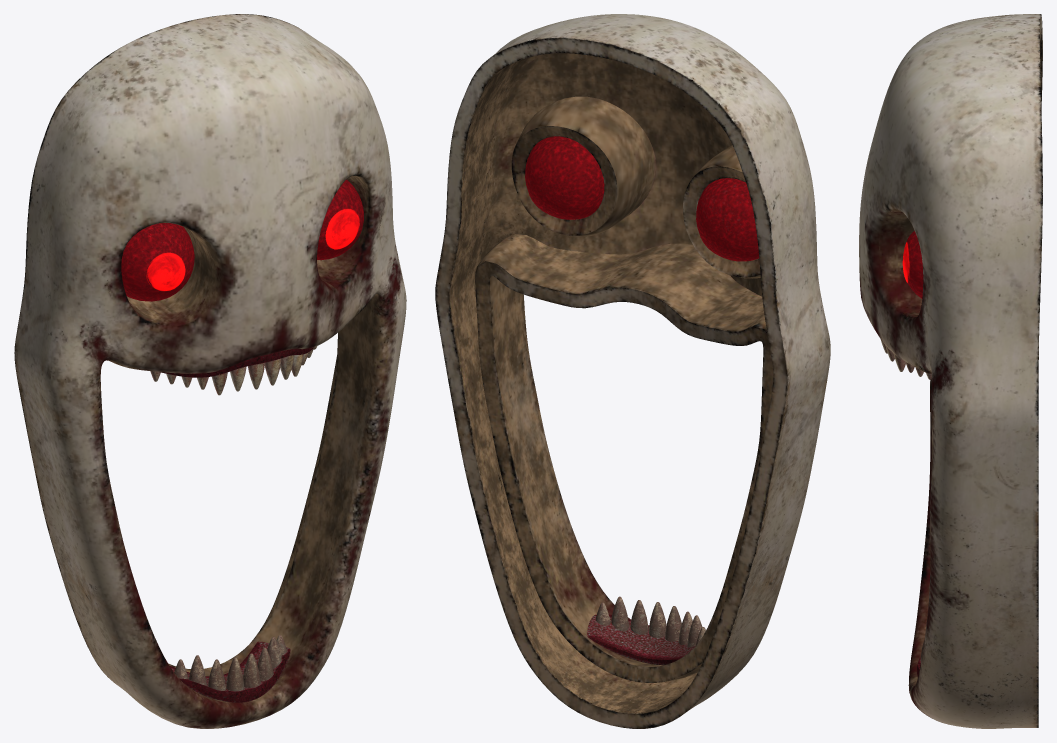
Rendered from Rigged_Mask.fbx.
3 renders of one model, left to right at view 1: azimuth 30°, elevation 25°; view 2: azimuth 150°, elevation 25°; view 3: azimuth 270°, elevation 25°, orthographic.
Parts seen in each view (by area): view 1: Mask, Eye_R, Eye_L; view 2: Mask, Eye_L, Eye_R; view 3: Mask, Eye_L.
Part boxes in pixels (x1=…): Mask: x1=14, y1=14, x2=406, y2=728; Eye_R: x1=121, y1=223, x2=194, y2=301; Eye_L: x1=317, y1=179, x2=363, y2=260; Mask: x1=435, y1=14, x2=830, y2=728; Eye_L: x1=525, y1=136, x2=604, y2=219; Eye_R: x1=696, y1=178, x2=759, y2=261; Mask: x1=859, y1=14, x2=1042, y2=728; Eye_L: x1=902, y1=231, x2=923, y2=298.
Bounding box in the file's own units: 34.89 × 63.36 × 15.57.
